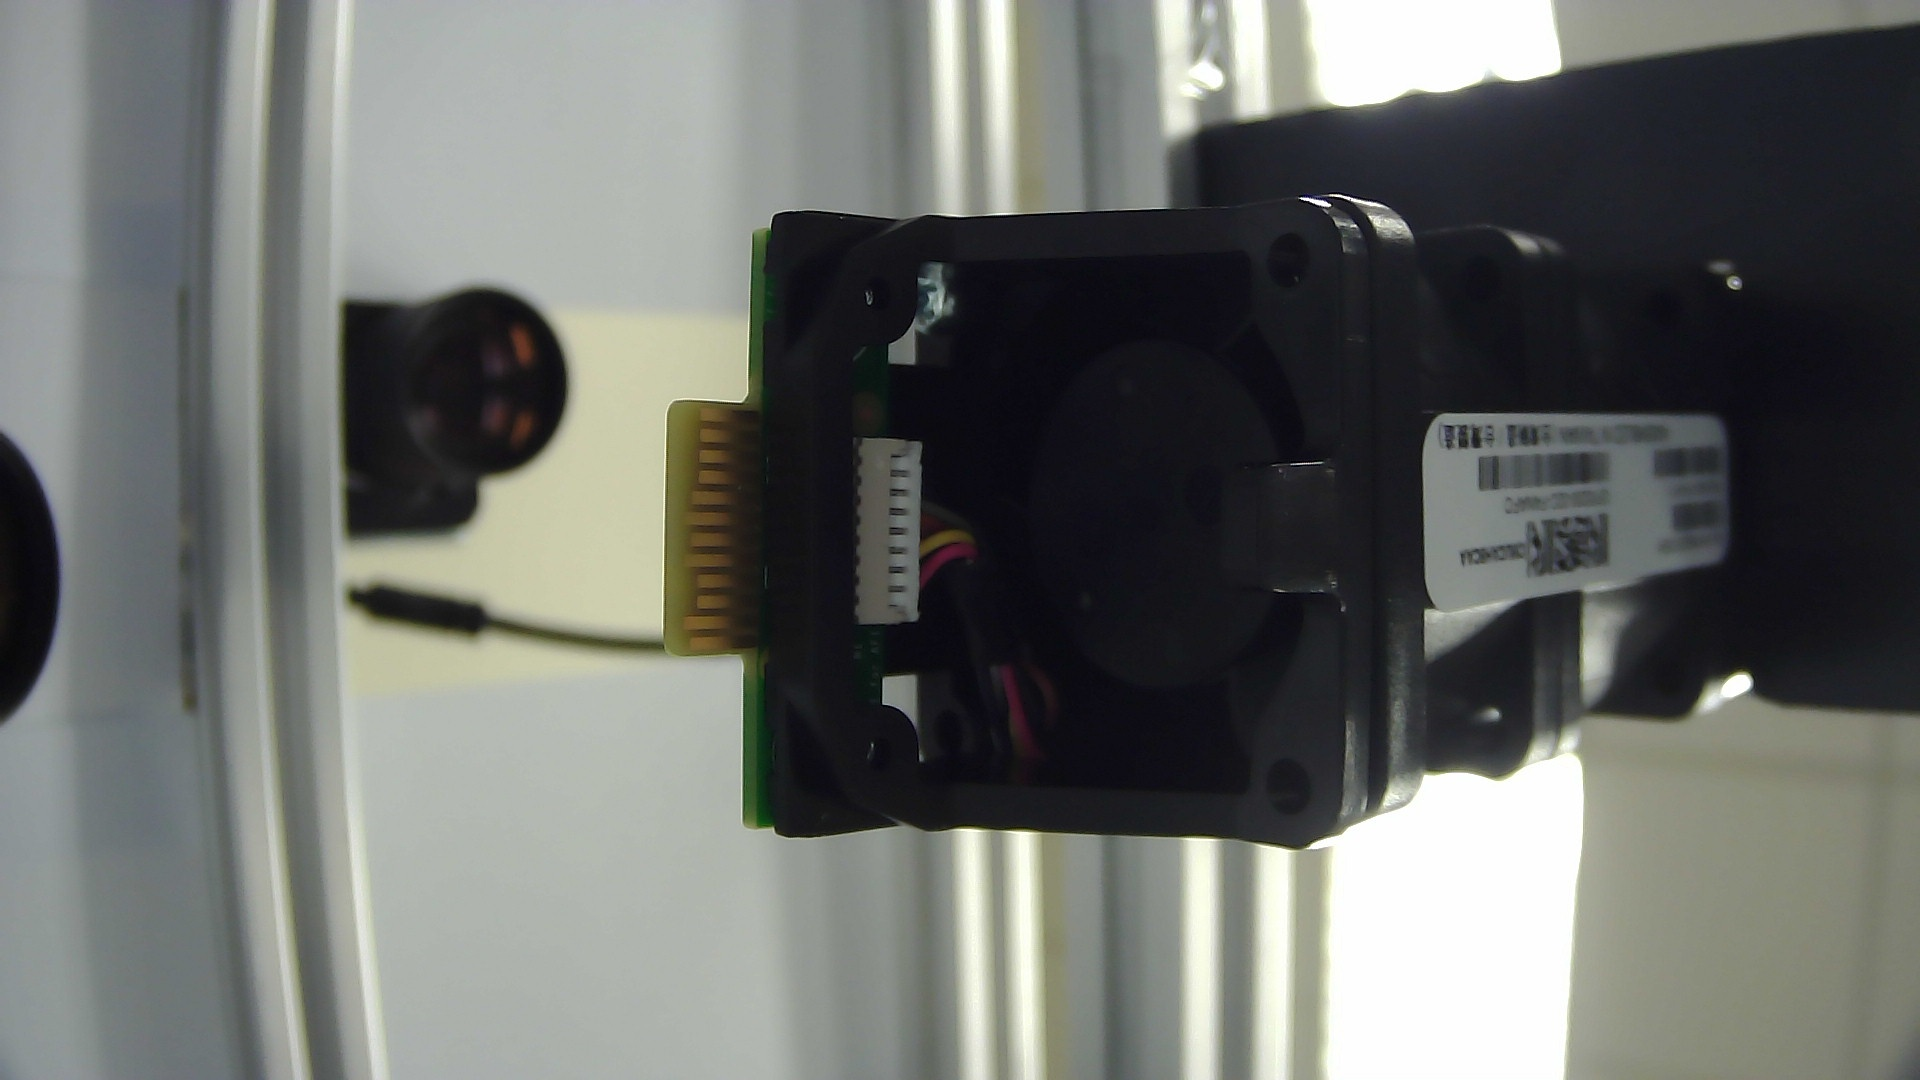4_1: (1229, 625, 1826, 831), (1224, 157, 1720, 363)
